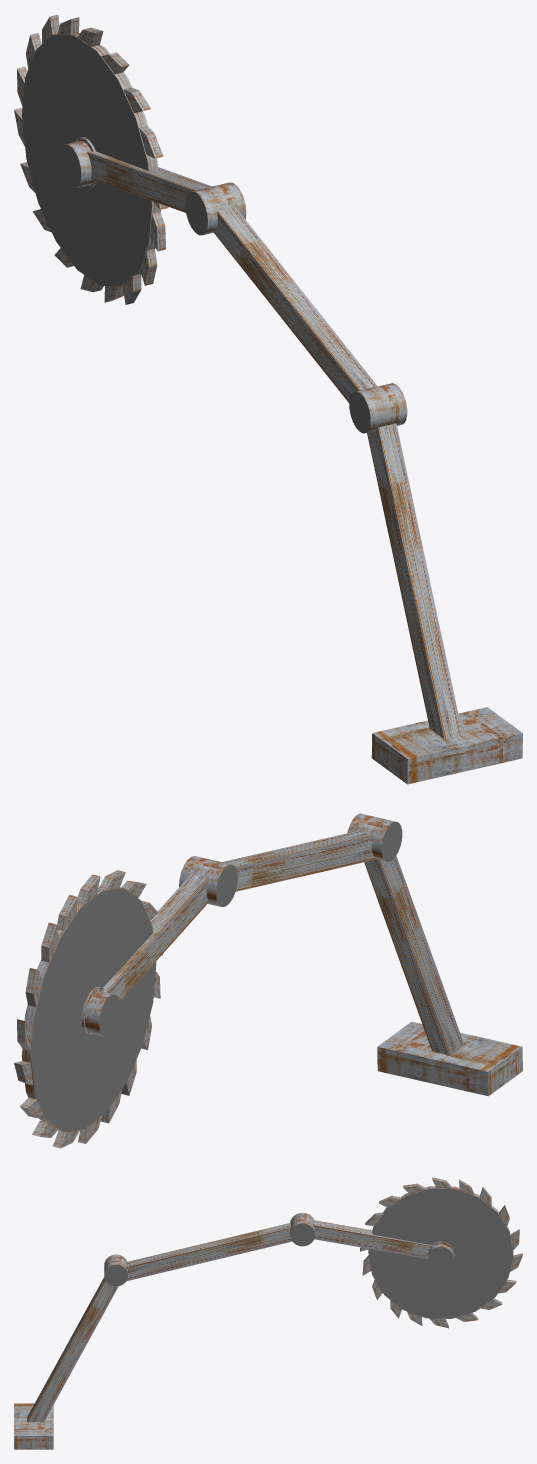
The model's file is Buzzsaw Weapon Extended Textured.fbx.
3 views of the same model, one above another, from view 1: azimuth 30°, elevation 25°; view 2: azimuth 150°, elevation 25°; view 3: azimuth 270°, elevation 25° (orthographic). The views are drawn at different scales.
Parts seen in each view (by area): view 1: Cylinder001, Object; view 2: Cylinder001, Object; view 3: Object, Cylinder001.
Part boxes in pixels (x1,y1,x2,y2): Cylinder001: (14, 14, 522, 784); Object: (22, 35, 370, 433); Cylinder001: (14, 813, 522, 1148); Object: (31, 821, 402, 1131); Object: (104, 1188, 513, 1318); Cylinder001: (14, 1177, 522, 1449).
Bounding box in the file's own units: 101 × 388 × 693.
Materials: 2 (1 with a texture image).
